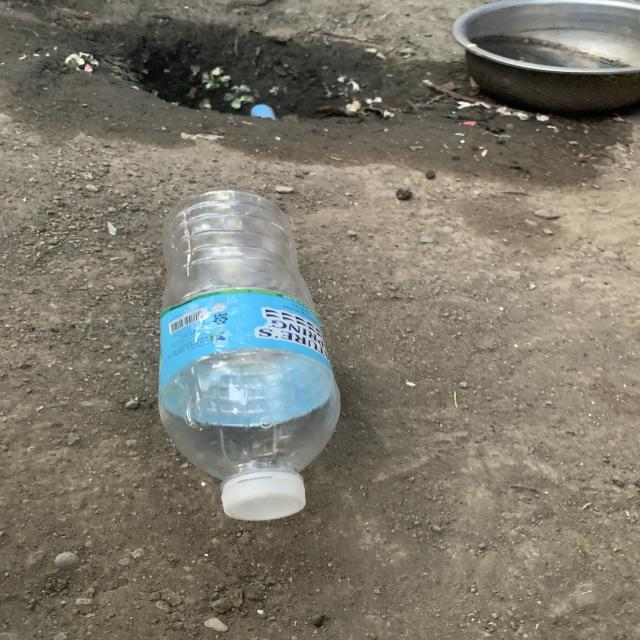Bottle: (158, 190, 340, 520)
